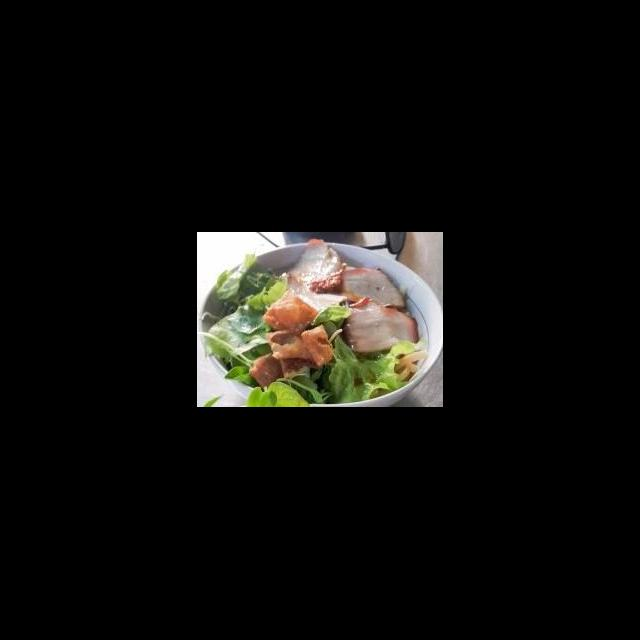banh da: (258, 292, 321, 336), (247, 350, 314, 390), (263, 328, 320, 364), (298, 324, 337, 368)
mi: (391, 348, 430, 384)
mi quang: (204, 244, 443, 407)
thit heo: (340, 296, 421, 356), (285, 237, 349, 296), (333, 266, 409, 310), (277, 276, 363, 314)
